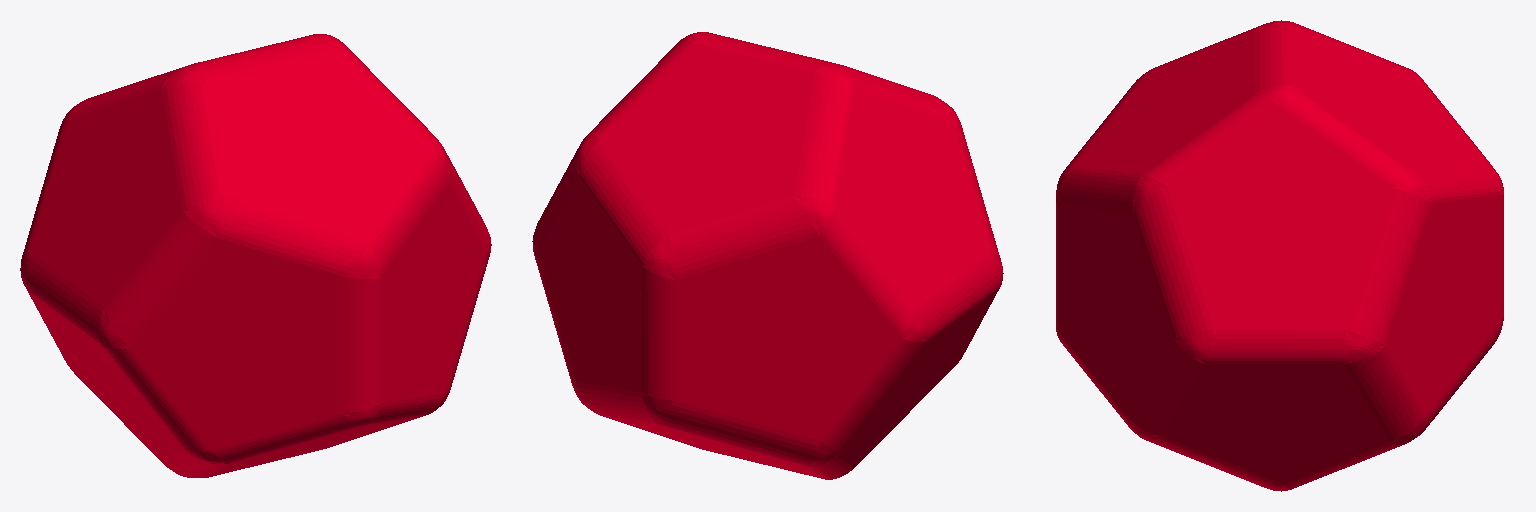
URDF robot description (dodecahedron.urdf):
<?xml version="1.0" ?>
<robot name="dodecahedron.urdf">

  <link name="dodecahedron">
    <contact>
    	<friction_anchor/>
    	   <lateral_friction value="1.0"/>
    </contact>
    <inertial>
      <origin rpy="0 0 0" xyz="0 0 0"/>
       <mass value=".1"/>
       <inertia ixx="1" ixy="0" ixz="0" iyy="1" iyz="0" izz="1"/>
    </inertial>
    <visual>
      <origin rpy="0 0 0" xyz="0 0 0"/>
      <geometry>
				<mesh filename="dodecahedron_rounded.obj" scale="1.0 1.0 1.0"/>
      </geometry>
       <material name="red">
        <color rgba="0.9 0 0.2 1.0"/>
      </material>
    </visual>
    <collision>
      <origin rpy="0 0 0" xyz="0 0 0"/>
      <geometry>
				<mesh filename="dodecahedron_rounded.obj" scale="1.0 1.0 1.0"/>
      </geometry>
    </collision>
  </link>


</robot>

--- Facts derived from the render (not from the file) ---
3 views of the same robot in one strip: view 1: azimuth 30°, elevation 25°; view 2: azimuth 150°, elevation 25°; view 3: azimuth 270°, elevation 25° (orthographic).
Robot: dodecahedron.urdf — 1 links, 0 joints (none); root link dodecahedron; default pose: all joints at 0.
Links seen in each view (by area): view 1: dodecahedron; view 2: dodecahedron; view 3: dodecahedron.
Boxes of the visible links, x1,y1,x2,y2 form: dodecahedron: (20, 34, 491, 477); dodecahedron: (532, 32, 1003, 479); dodecahedron: (1056, 20, 1503, 491).
Size in the robot's own frame: 0.0972 by 0.0972 by 0.0972 metres.
Meshes: 1 distinct files referenced, 1 mesh visuals loaded (1 OBJ).